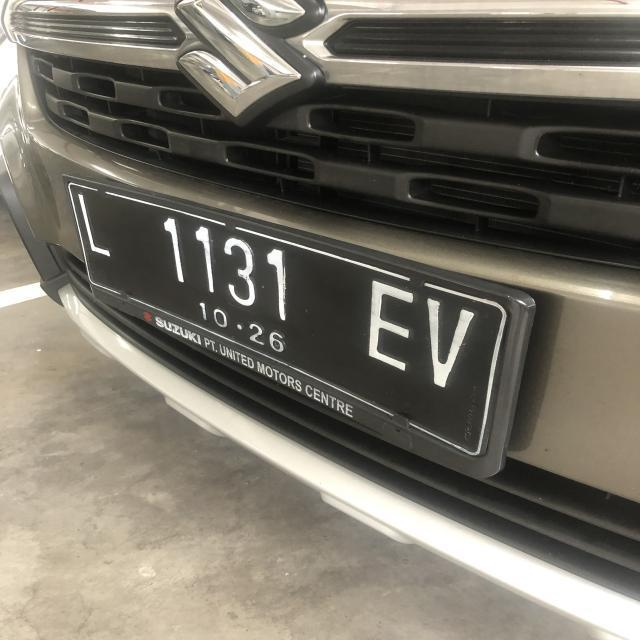1: (263, 244, 297, 327), (192, 223, 222, 300), (161, 210, 188, 284)
3: (224, 232, 262, 306)
E: (362, 272, 417, 378)
L: (73, 193, 120, 259)
V: (423, 292, 472, 394)
